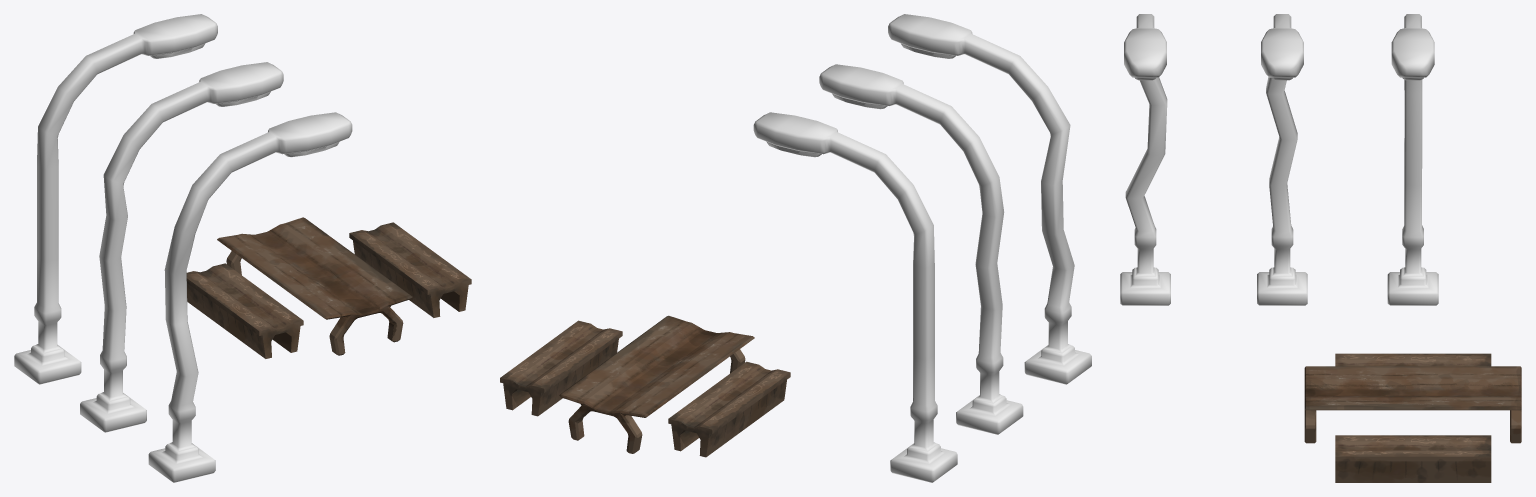
The model's file is table_seats_fonari.fbx.
3 renders of one model, left to right at view 1: azimuth 30°, elevation 25°; view 2: azimuth 150°, elevation 25°; view 3: azimuth 270°, elevation 25°, orthographic.
Visible parts, largest first — view 1: Cube.017, Cube.016, Cube.014, Cube.013, Cube.012, Cube.015; view 2: Cube.016, Cube.017, Cube.014, Cube.013, Cube.012, Cube.015; view 3: Cube.013, Cube.017, Cube.016, Cube.014, Cube.015, Cube.012.
Boxes of the visible parts, left/top/right/bottom form: Cube.017: left=148, top=112, right=352, bottom=482; Cube.016: left=80, top=62, right=283, bottom=432; Cube.014: left=14, top=14, right=217, bottom=384; Cube.013: left=217, top=217, right=412, bottom=355; Cube.012: left=186, top=263, right=303, bottom=358; Cube.015: left=349, top=222, right=471, bottom=317; Cube.016: left=819, top=64, right=1023, bottom=434; Cube.017: left=888, top=14, right=1091, bottom=384; Cube.014: left=753, top=112, right=957, bottom=482; Cube.013: left=559, top=315, right=754, bottom=453; Cube.012: left=668, top=361, right=790, bottom=457; Cube.015: left=500, top=320, right=622, bottom=416; Cube.013: left=1304, top=366, right=1521, bottom=443; Cube.017: left=1120, top=14, right=1170, bottom=305; Cube.016: left=1257, top=14, right=1307, bottom=305; Cube.014: left=1387, top=14, right=1438, bottom=305; Cube.015: left=1335, top=435, right=1491, bottom=482; Cube.012: left=1335, top=353, right=1491, bottom=366.
Bounding box in the file's own units: 1842 × 1369 × 1580.
3 materials, 2 textured.
